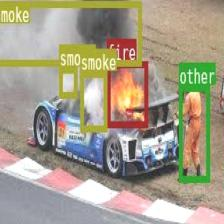fire: (106, 60, 148, 126)
smoke: (0, 0, 141, 65), (80, 71, 106, 130), (58, 66, 76, 97)
